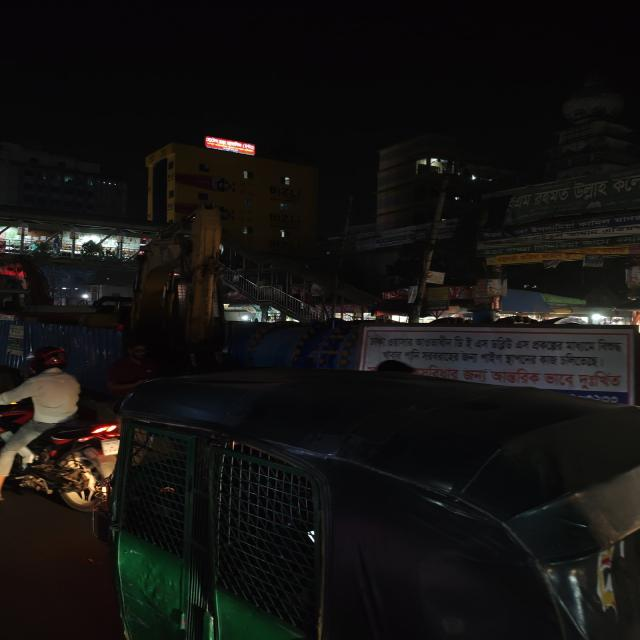cng: (101, 366, 639, 640)
motorcycle: (0, 344, 114, 518)
